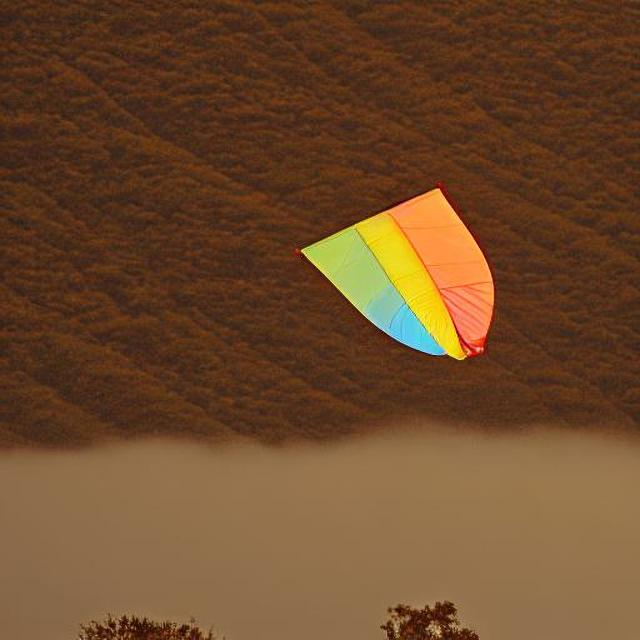floating object: (302, 184, 498, 356)
